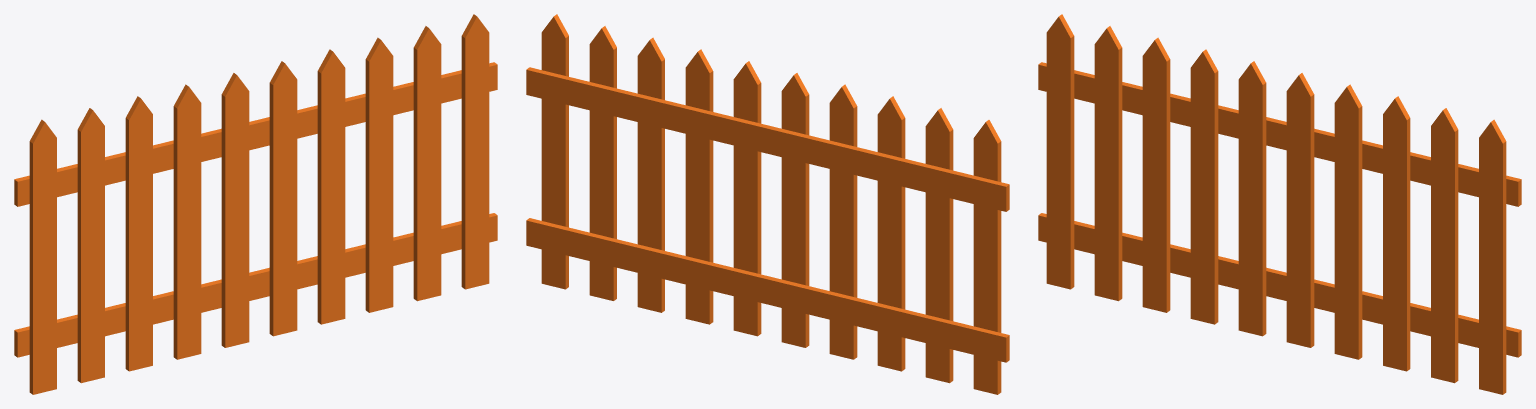
File: Valla_low.fbx
3 views of the same model, side by side, from view 1: azimuth 30°, elevation 25°; view 2: azimuth 150°, elevation 25°; view 3: azimuth 330°, elevation 25° (orthographic).
Parts seen in each view (by area): view 1: Valla; view 2: Valla; view 3: Valla.
Part boxes in pixels (box(x1,y1,x2,y2)): Valla: box(14, 14, 497, 394); Valla: box(526, 14, 1009, 394); Valla: box(1038, 14, 1521, 394).
Bounding box in the file's own units: 400 × 215 × 10.
